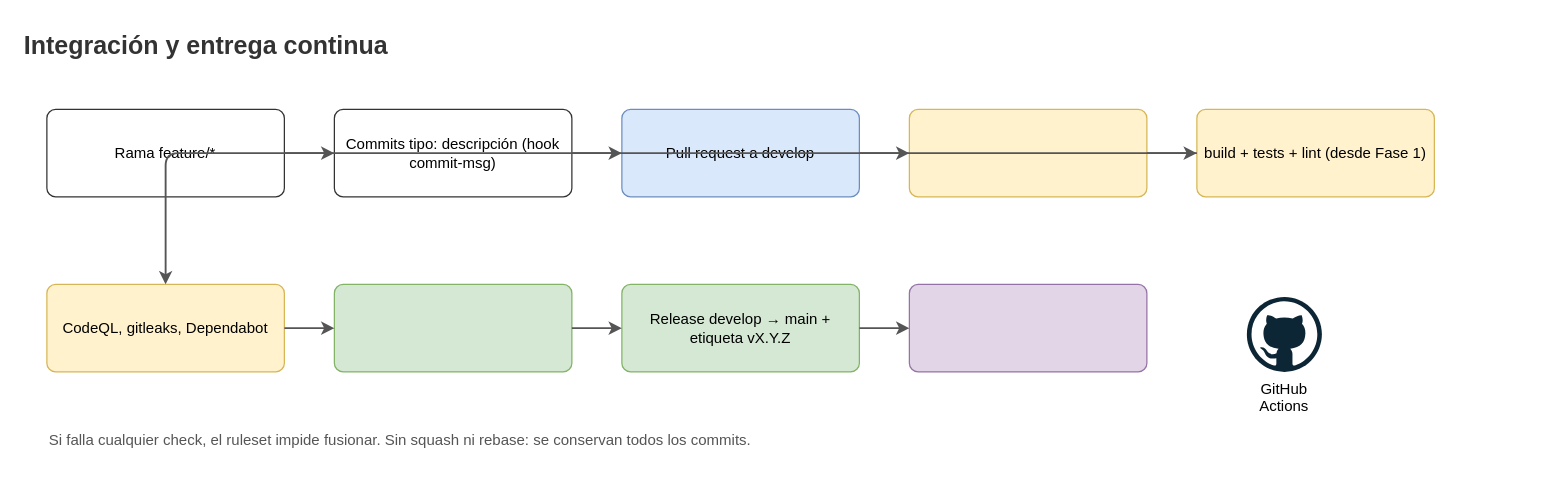
The diagram is 1543 pixels wide and 480 high, and some of its shapes have lost their labels. The shapes that lost their labels are listed below. From the top down, each one's centre as x and y in pixels, then its label:
[1027,152]: commit-lint (título y commits)
[452,327]: Merge commit (título del PR)
[1027,327]: Despliegue Vercel / Render
